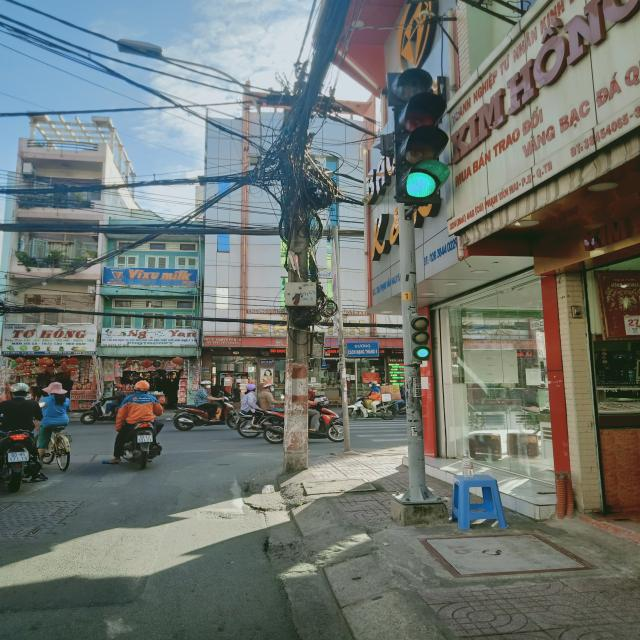Green: (384, 97, 460, 210), (401, 307, 433, 366)
